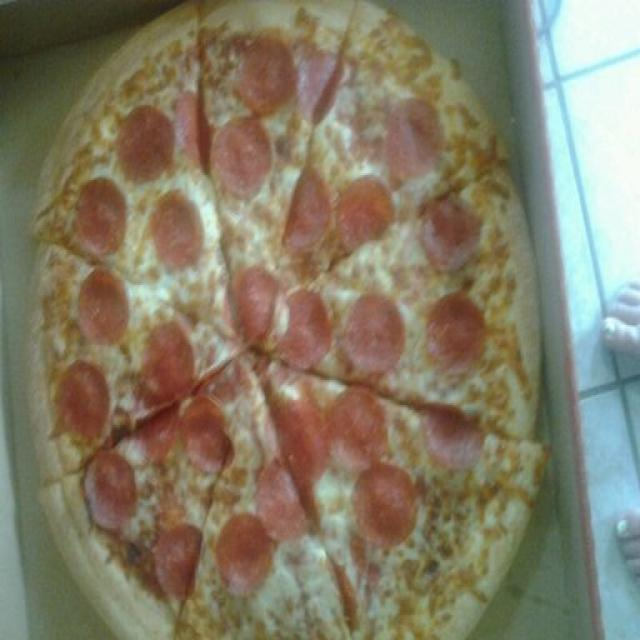Pepperoni: (51, 359, 125, 446), (270, 161, 332, 261), (250, 446, 320, 531), (421, 393, 483, 486), (212, 509, 274, 593), (72, 267, 134, 345), (341, 289, 401, 368), (141, 314, 198, 396), (421, 193, 483, 266), (276, 394, 336, 466), (236, 38, 294, 111), (215, 118, 271, 193), (84, 452, 137, 531), (336, 381, 385, 462), (427, 297, 482, 369), (354, 468, 410, 538), (148, 185, 203, 256), (234, 257, 281, 340), (182, 396, 232, 474), (77, 170, 124, 249), (288, 50, 348, 111), (282, 286, 330, 362), (124, 104, 171, 181), (392, 103, 439, 178), (155, 520, 197, 602), (342, 171, 387, 242), (136, 392, 179, 465), (176, 94, 223, 158)
Pizza: (31, 3, 546, 637)
